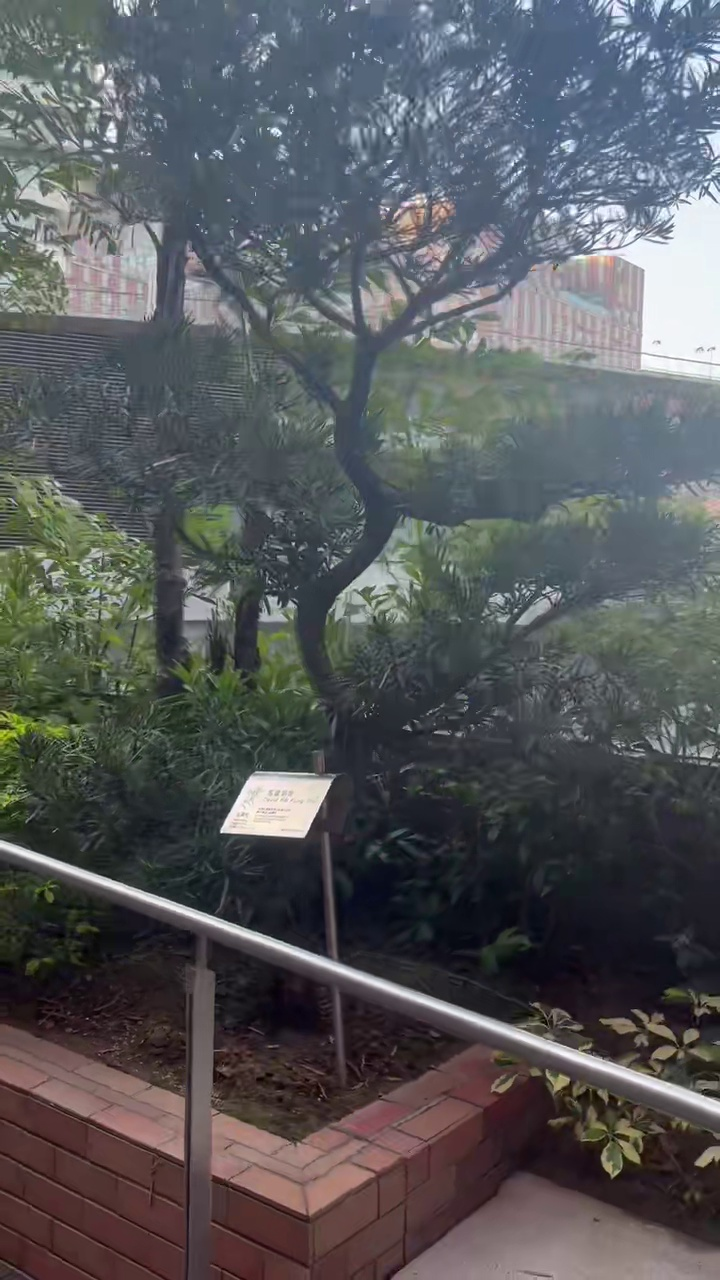Podocarpus macrophyllus: (106, 0, 719, 780)
